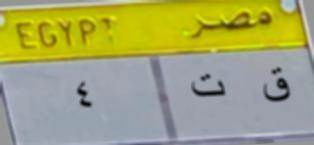4: (68, 78, 105, 117)
qaaf: (258, 64, 295, 109)
taa: (187, 66, 231, 108)
